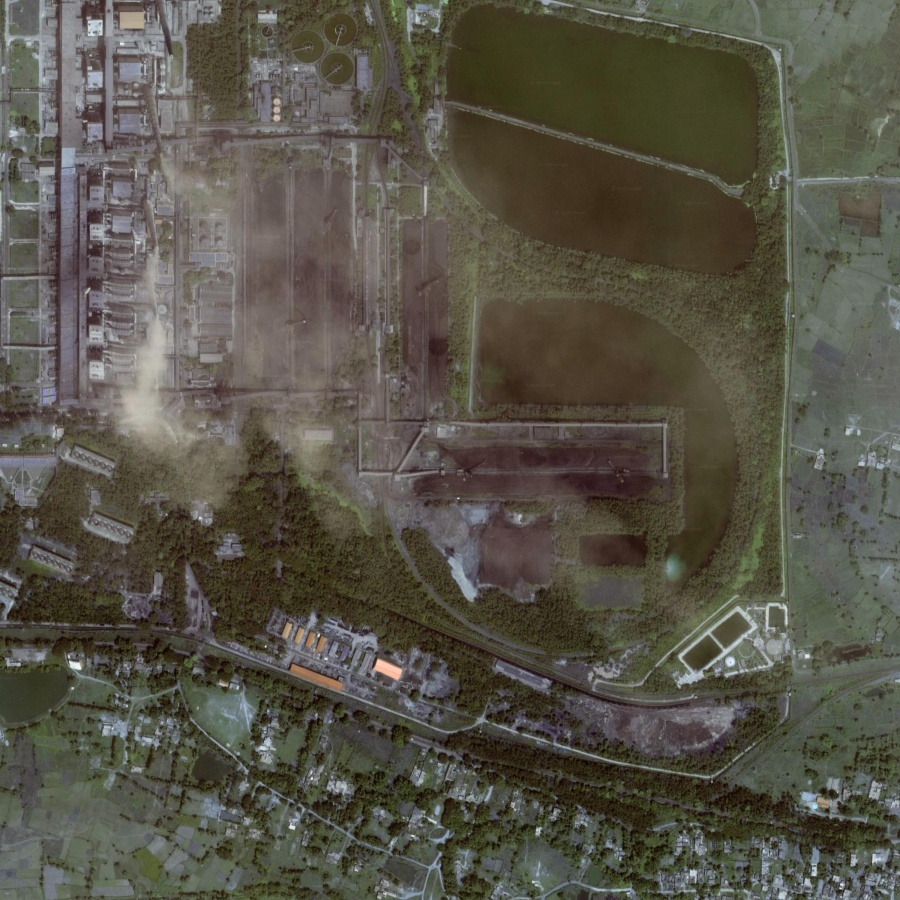PowerPlant: (130, 138, 460, 459), (394, 421, 678, 607)
